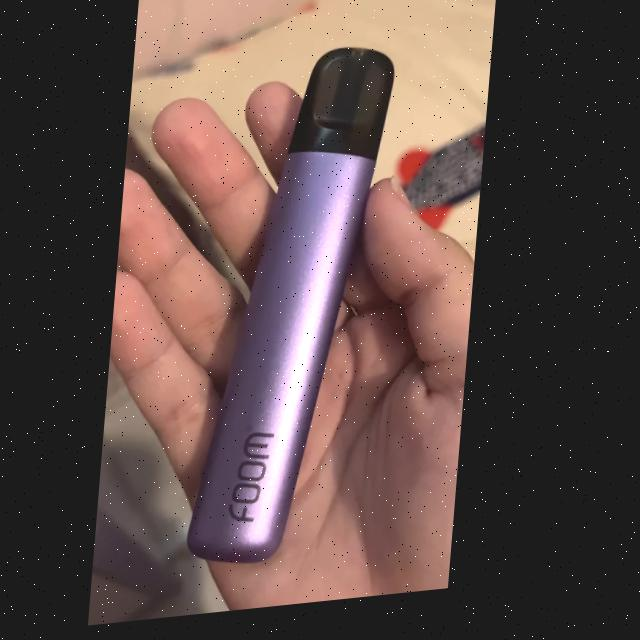vape: (194, 50, 399, 570)
